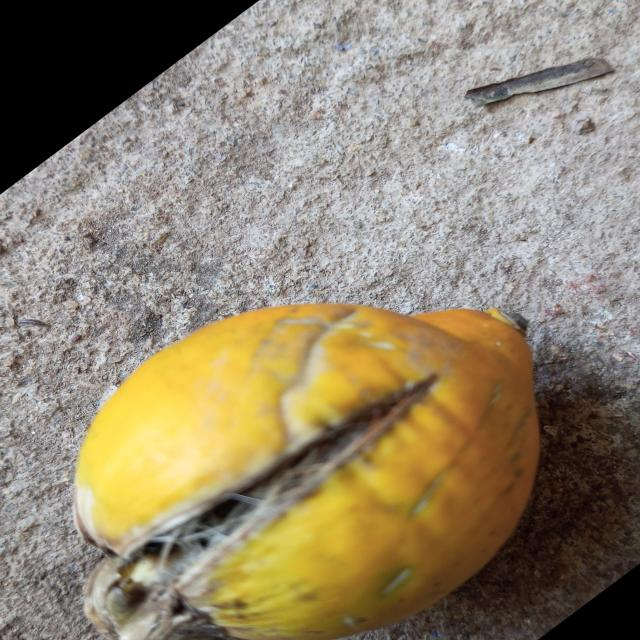damaged: (73, 303, 541, 640)
